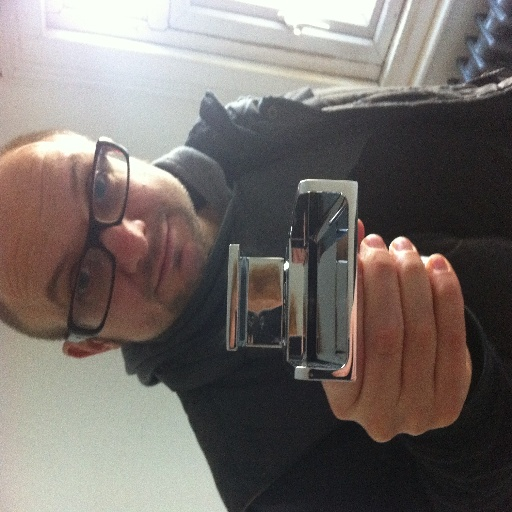hand: (319, 216, 472, 445)
